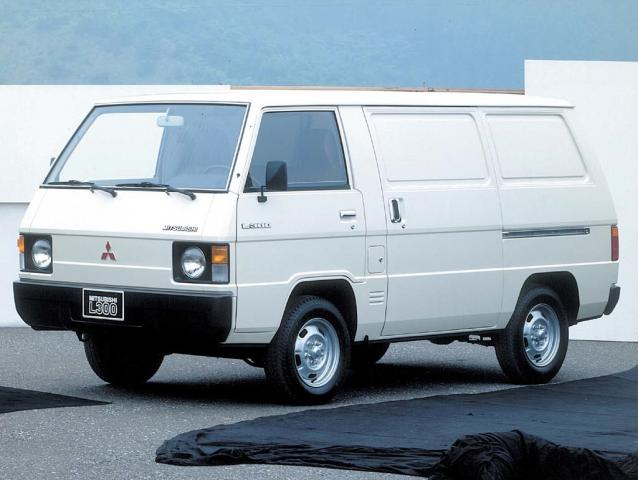van: (12, 89, 620, 403)
